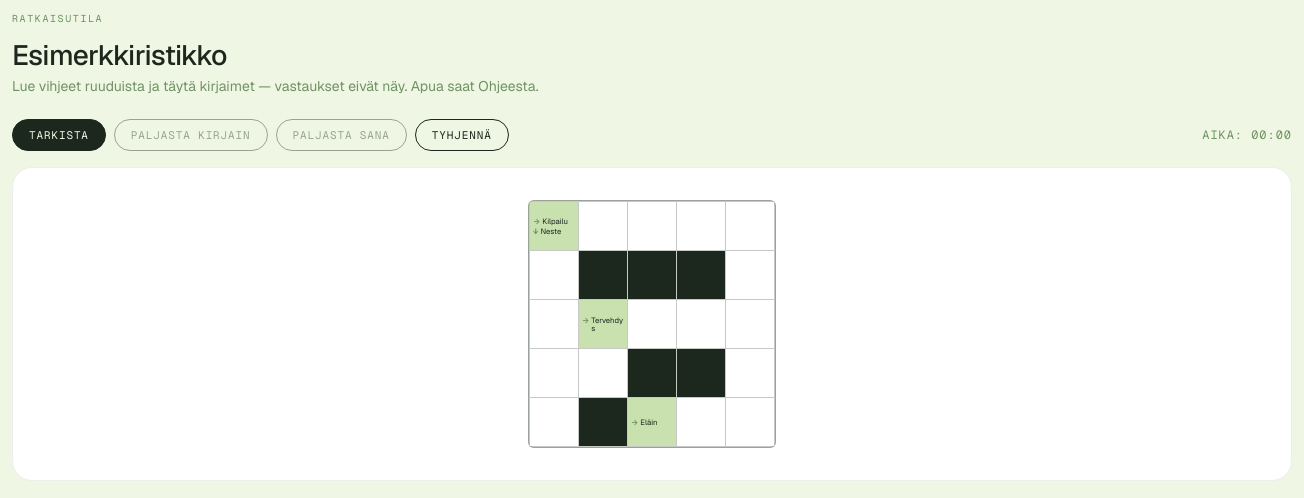
SolveMode — click clue to focus answer › focuses a single-clue cell answer start so typing fills it
Click the cell "→ Tervehdys" at (603,324), box [579, 300, 627, 348]
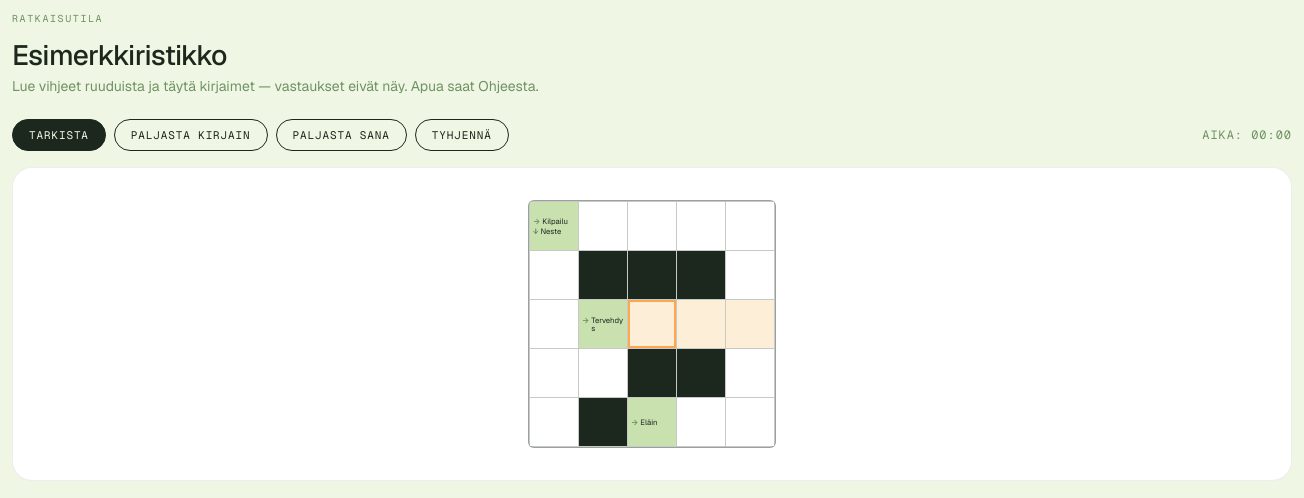
Press z in the element showing "→ Kilpailu ↓ Neste → Tervehdys → Eläin"
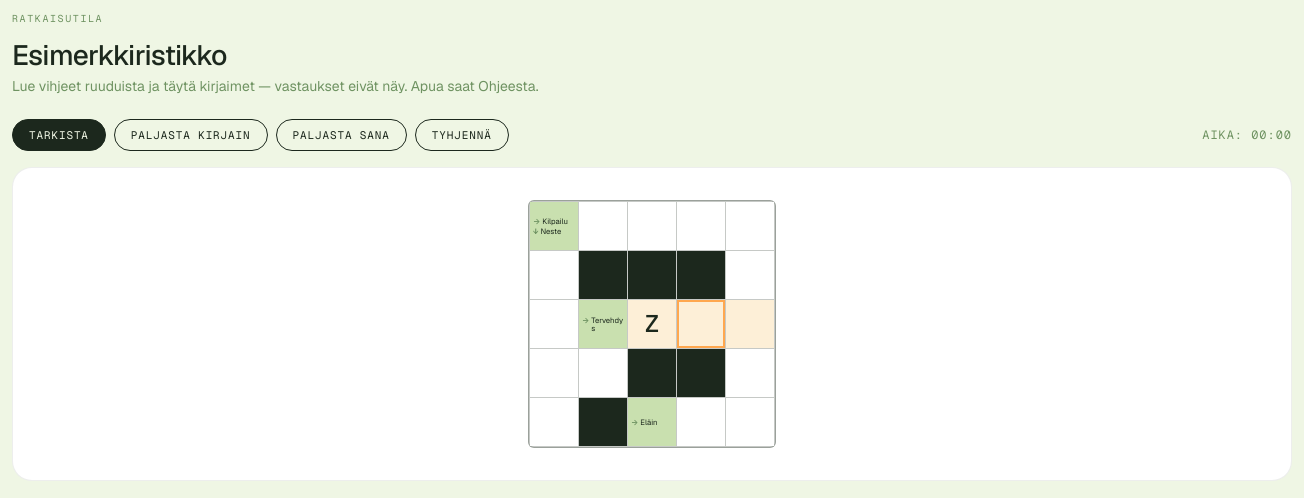
Check: the cell "Z" is shown, box [628, 300, 676, 348]
